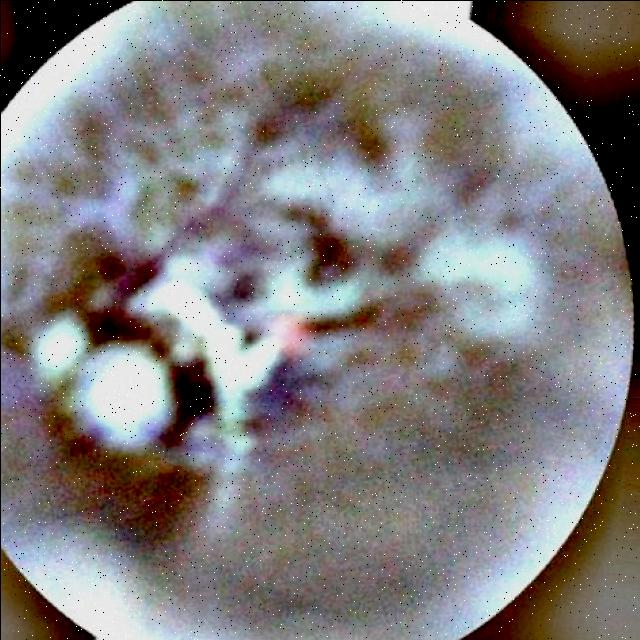Macula: (265, 317, 304, 351)
Optic Disk: (75, 348, 171, 446)
